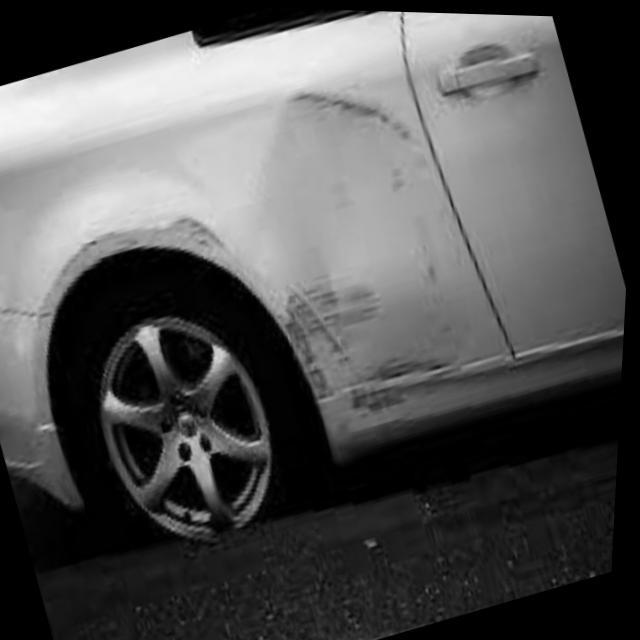rub: (48, 69, 471, 429)
